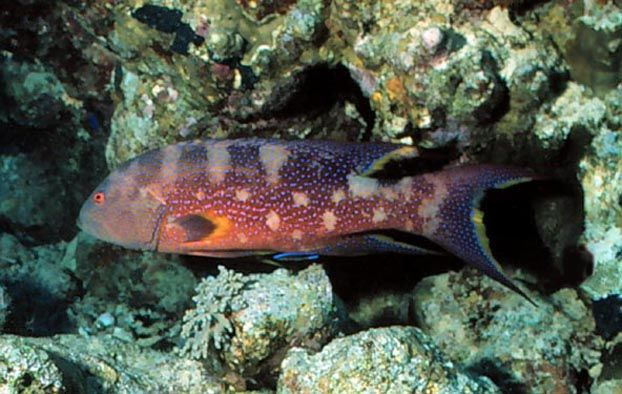fish: (76, 136, 540, 309)
